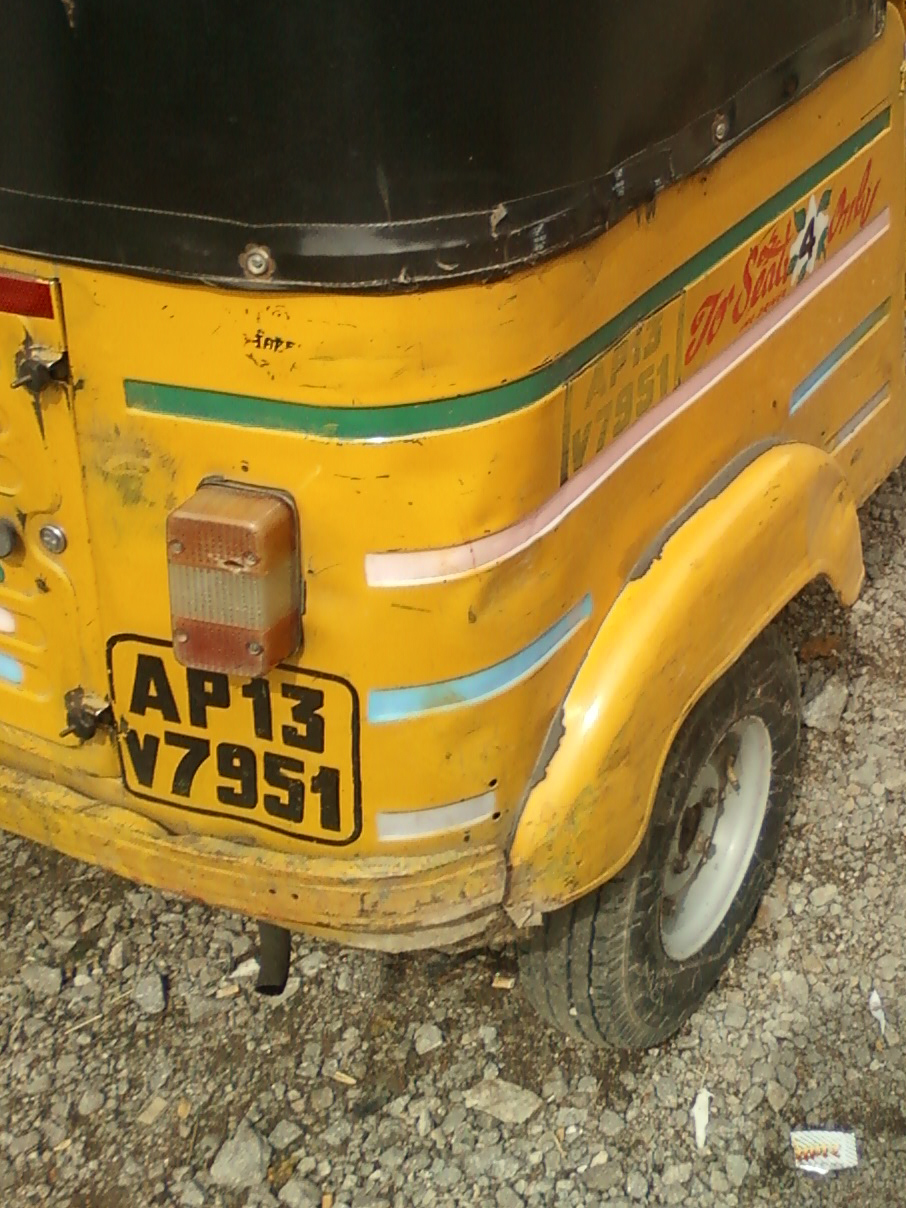doublelinenumberplate: (94, 630, 371, 847)
